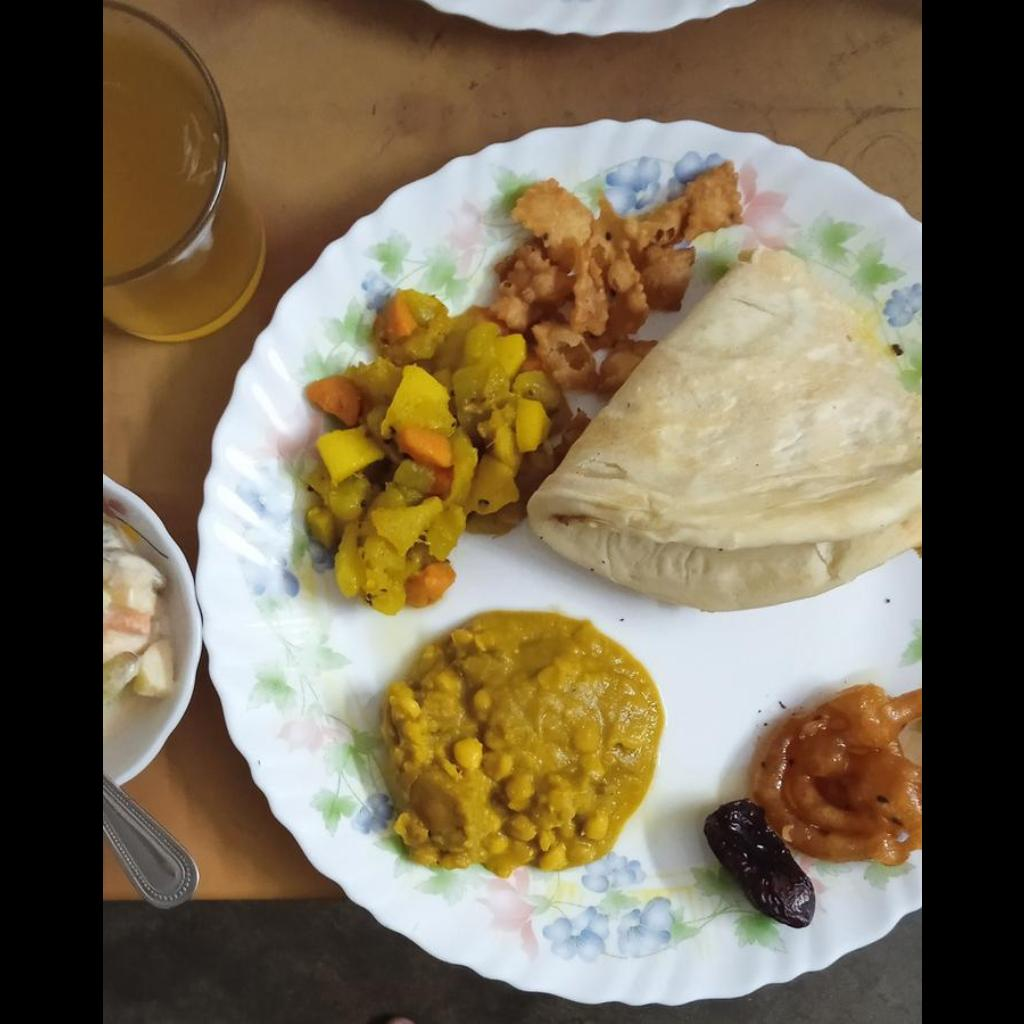chomchom: (485, 163, 741, 394)
daal: (371, 608, 663, 872)
dates: (708, 801, 816, 927)
juice: (102, 0, 227, 284)
ruti: (523, 244, 916, 613)
salad: (102, 513, 170, 702)
sweets: (748, 689, 920, 871)
vegetable: (296, 293, 582, 609)
